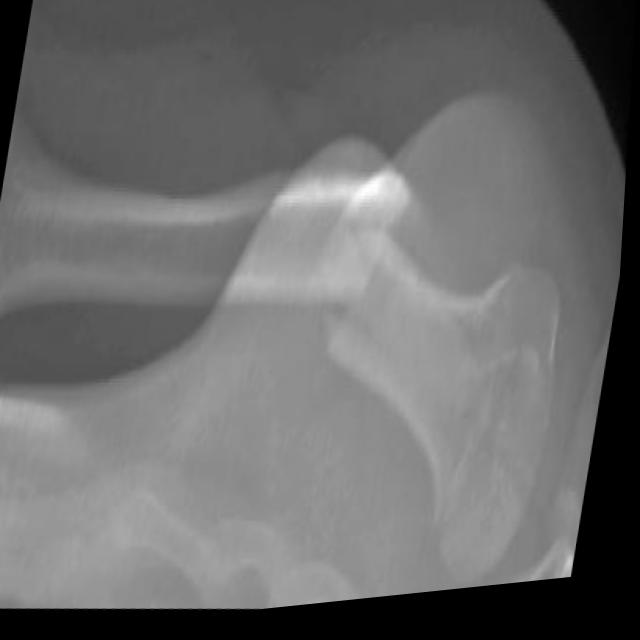fracture: (313, 159, 433, 396)
